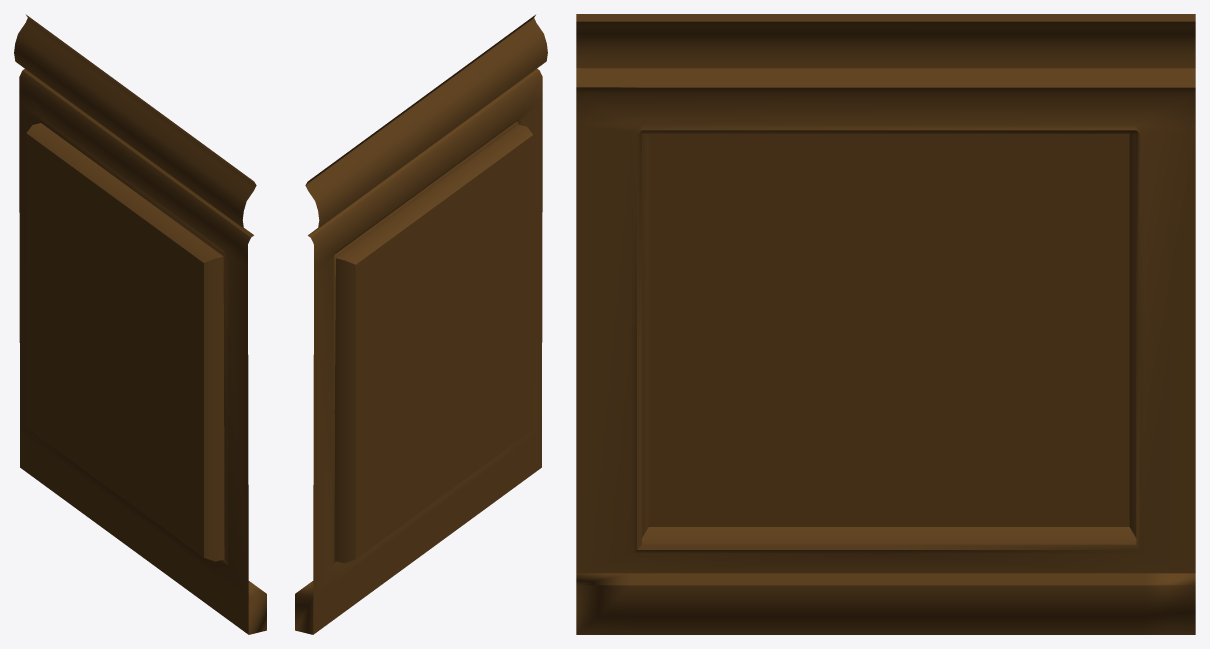
File: panellfbx.fbx
The picture shows the model from 3 angles, left to right: view 1: azimuth 30°, elevation 25°; view 2: azimuth 150°, elevation 25°; view 3: azimuth 270°, elevation 25°; orthographic projection. The views are drawn at different scales.
Visible parts, largest first — view 1: Cube.012; view 2: Cube.012; view 3: Cube.012.
Part boxes in pixels (bbox=[...]): Cube.012: bbox=[14, 14, 266, 634]; Cube.012: bbox=[295, 14, 547, 634]; Cube.012: bbox=[576, 14, 1195, 634].
Size of the model in its own units: 108 by 1286 by 1179.
